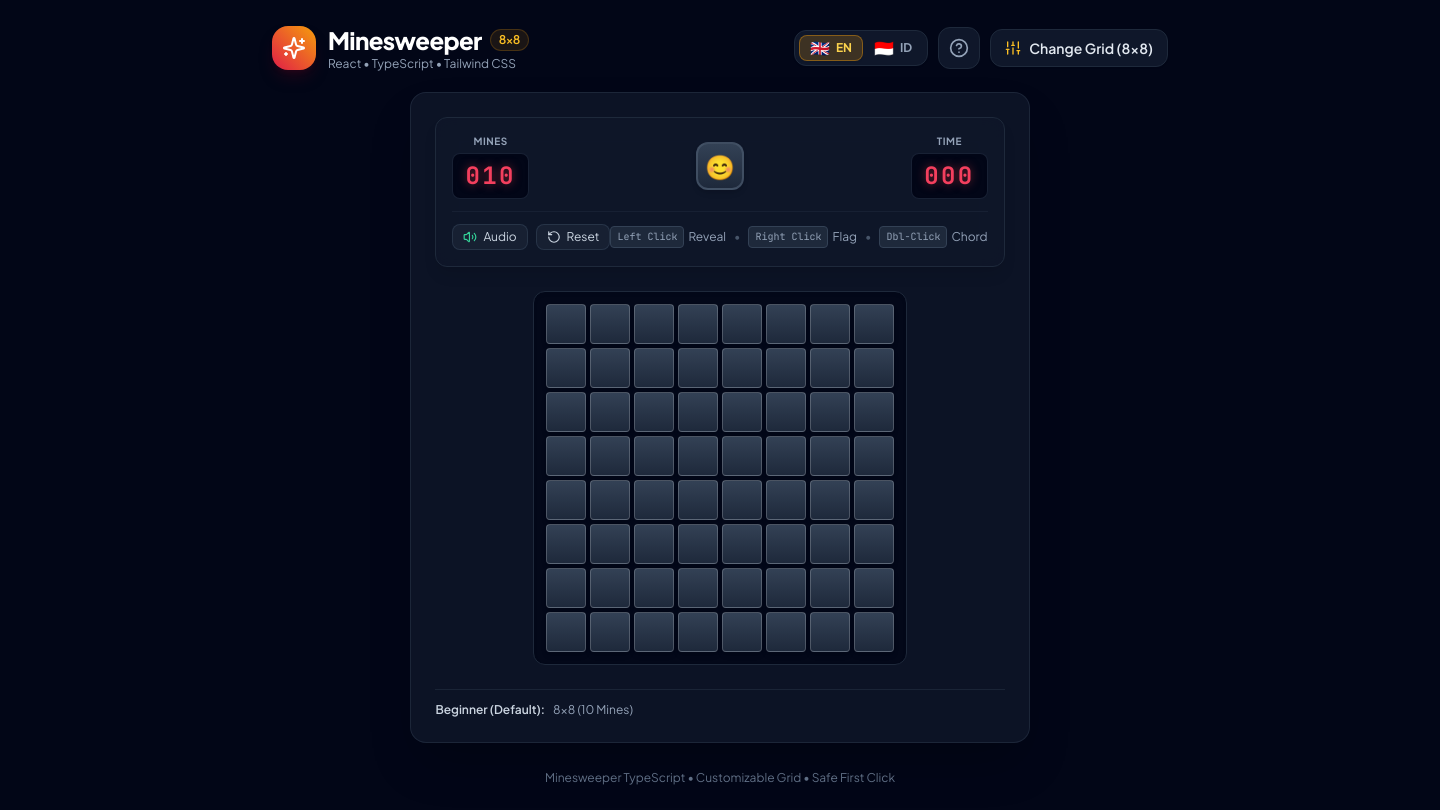
Scenario: App component (Integration) › opens and closes How to Play modal
Click the button named "how to play".
click(959, 48)  # box [938,27,980,69]
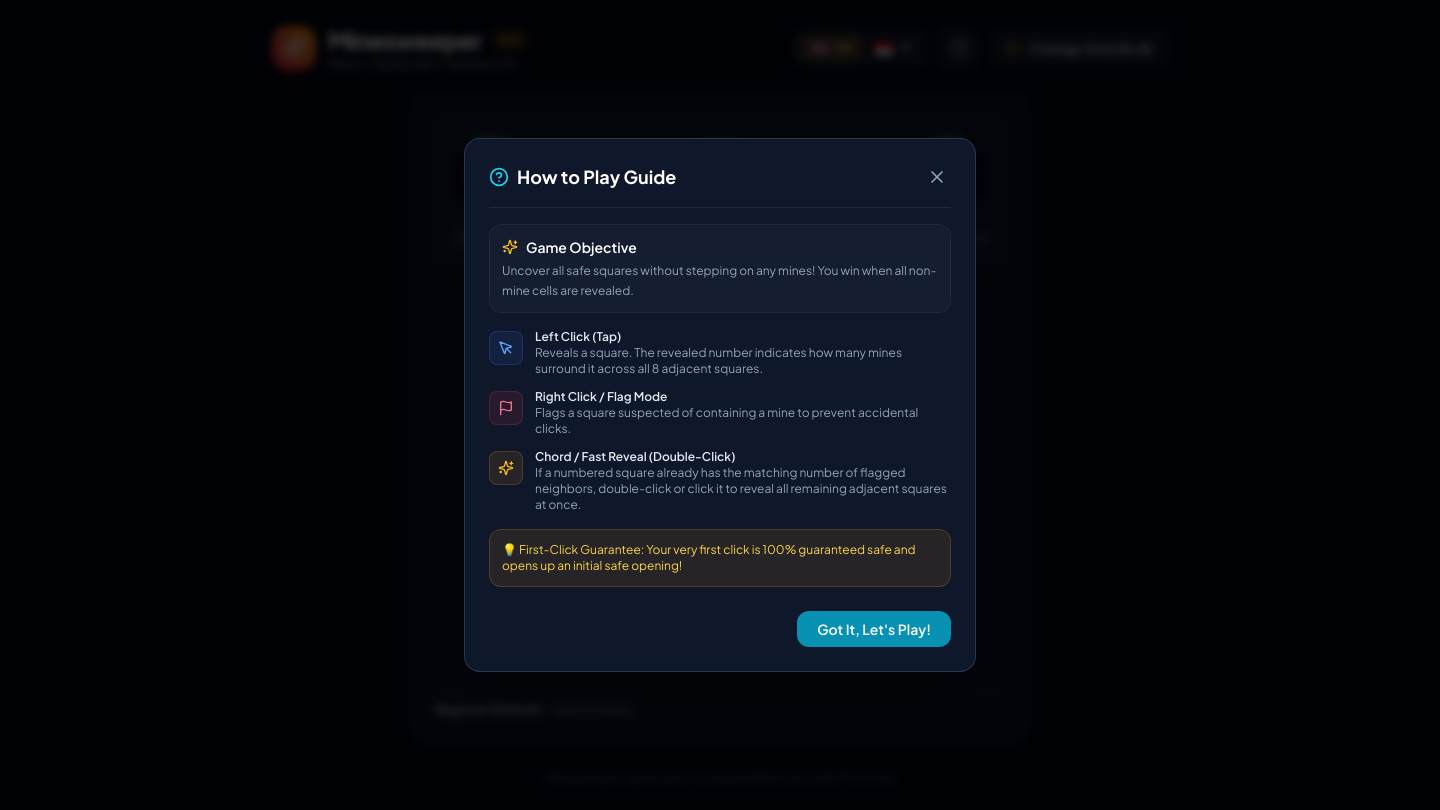
Now the heading "How to Play Guide" is shown, box [517,163,676,191]
Click the button "Got It, Let's Play!".
click(874, 629)  # box [797,611,951,647]
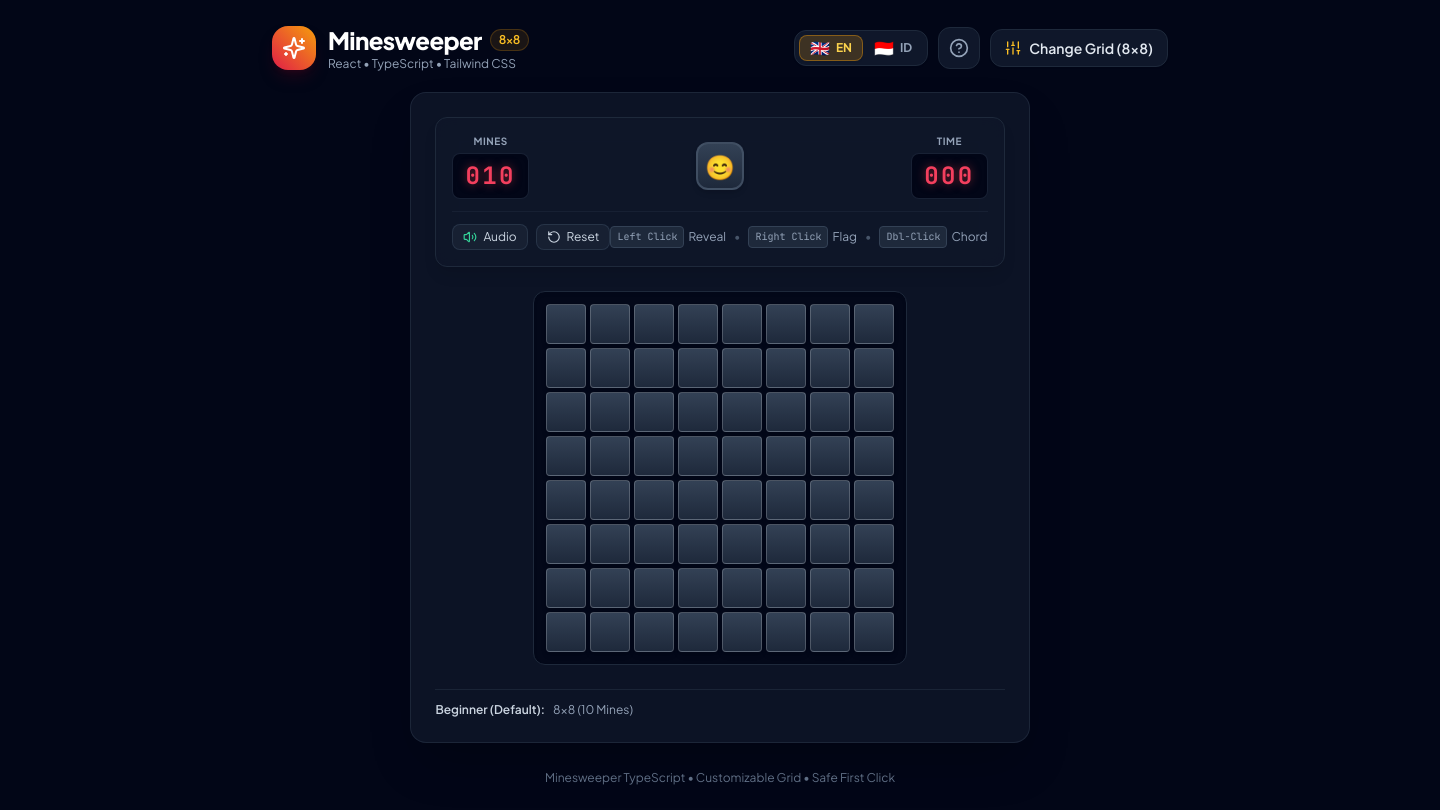
Now the heading "How to Play Guide" is gone
